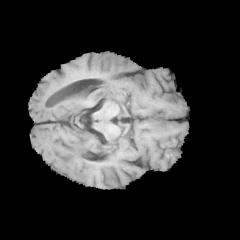glioma: (46, 144, 98, 179)
